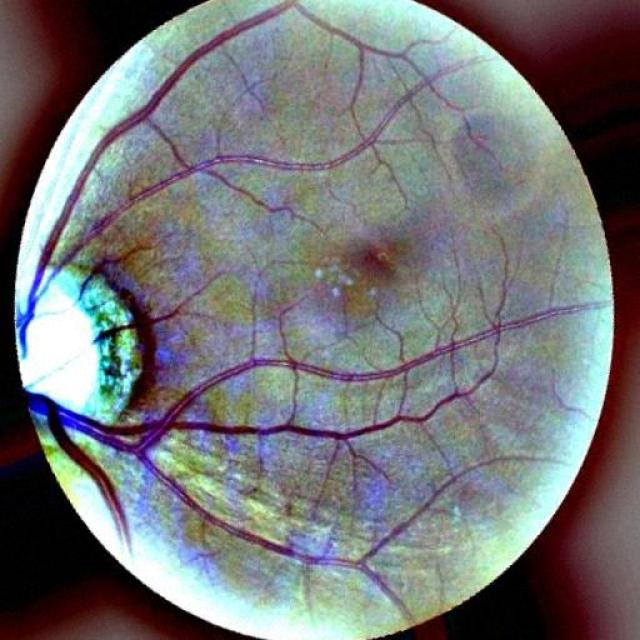Macula: (344, 237, 409, 292)
Nerves: (40, 307, 586, 608), (28, 4, 450, 292)
Optic Disk: (13, 258, 148, 446)
